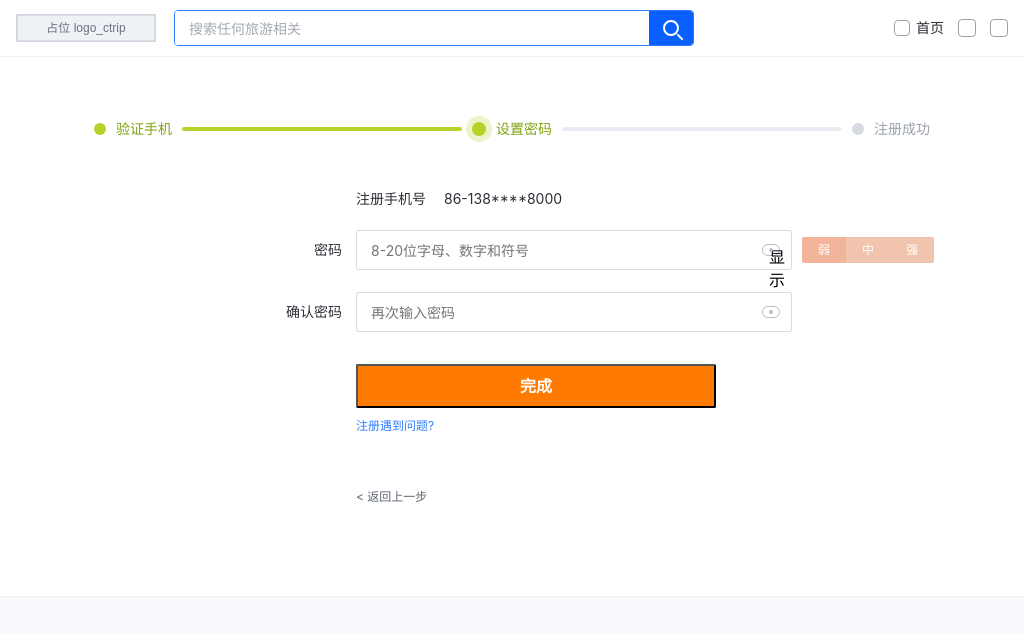
Scenario: 注册模块 - 步骤2 场景用例 › Scenario: 2.1.13 用户在未输入任何信息时点击注册
Click the button "完成" at (536, 386), box [356,364,716,408]
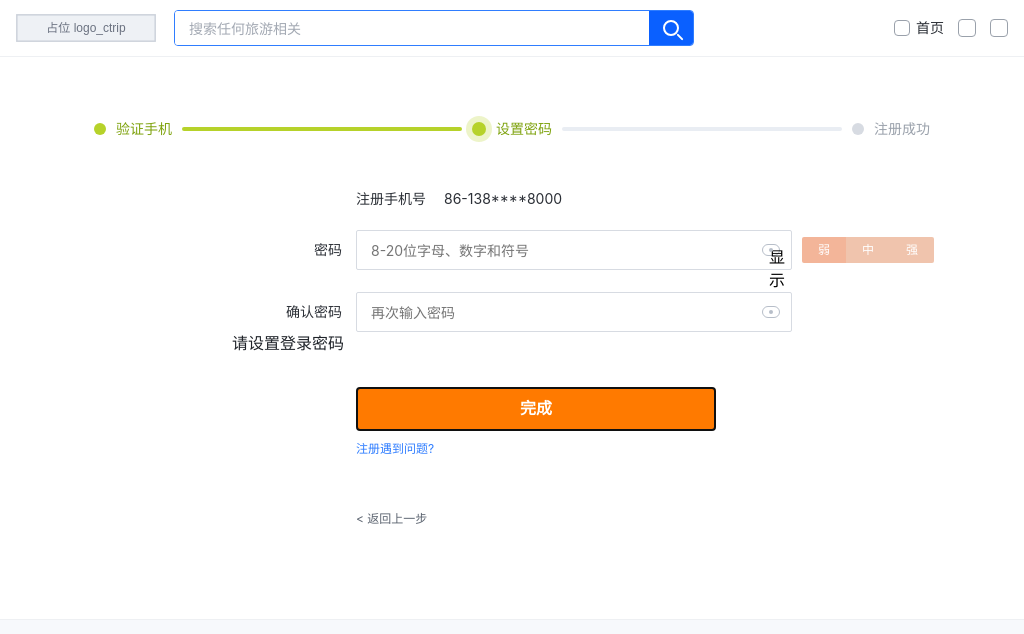
Now the text "请设置登录密码" is shown, box [232,333,344,353]
